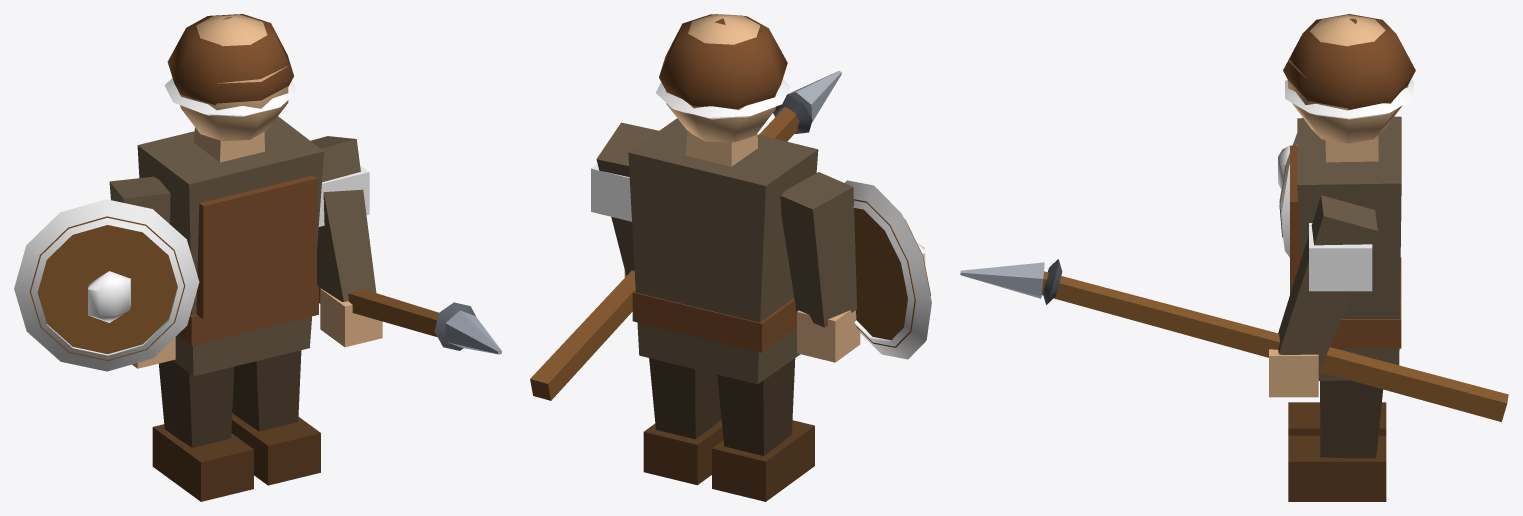
File: Militia_FirstAge.glb
The picture shows the model from 3 angles, left to right: view 1: azimuth 30°, elevation 25°; view 2: azimuth 150°, elevation 25°; view 3: azimuth 270°, elevation 25°; orthographic projection.
Visible parts, largest first — view 1: Leather, Cloth, Left_Wood, Left_Team, Right_Cloth, Skin, LegA_Dark, LegA_Trouser, LegB_Trouser, LegB_Dark, Right_Wood, Right_Skin (+5 smaller); view 2: Cloth, Leather, Left_Cloth, Left_Wood, LegA_Trouser, Skin, Left_Team, Right_Wood, LegA_Dark, LegB_Trouser, LegB_Dark, Left_Skin (+5 smaller); view 3: Cloth, Right_Wood, Leather, Right_Cloth, LegB_Dark, Skin, LegB_Trouser, Right_Team, Right_Skin, Right_Steel, Team, LegA_Dark (+1 smaller).
Boxes of the visible parts, bbox=[...] form: Leather: bbox=[167, 14, 318, 345]; Cloth: bbox=[137, 116, 324, 376]; Left_Wood: bbox=[29, 216, 185, 360]; Left_Team: bbox=[14, 199, 199, 371]; Right_Cloth: bbox=[310, 136, 376, 301]; Skin: bbox=[180, 14, 288, 162]; LegA_Dark: bbox=[152, 424, 253, 501]; LegA_Trouser: bbox=[159, 360, 234, 447]; LegB_Trouser: bbox=[232, 350, 301, 431]; LegB_Dark: bbox=[231, 413, 320, 485]; Right_Wood: bbox=[317, 284, 438, 337]; Right_Skin: bbox=[320, 288, 382, 347]; Cloth: bbox=[628, 118, 818, 384]; Leather: bbox=[632, 14, 796, 352]; Left_Cloth: bbox=[780, 172, 856, 327]; Left_Wood: bbox=[854, 199, 930, 347]; LegA_Trouser: bbox=[717, 358, 795, 455]; Skin: bbox=[666, 14, 776, 166]; Left_Team: bbox=[845, 180, 931, 359]; Right_Wood: bbox=[530, 107, 799, 400]; LegA_Dark: bbox=[712, 420, 814, 501]; LegB_Trouser: bbox=[649, 358, 721, 439]; LegB_Dark: bbox=[643, 420, 723, 485]; Left_Skin: bbox=[797, 310, 860, 362]; Cloth: bbox=[1297, 116, 1401, 380]; Right_Wood: bbox=[1042, 271, 1508, 421]; Leather: bbox=[1283, 14, 1415, 348]; Right_Cloth: bbox=[1278, 195, 1377, 365]; LegB_Dark: bbox=[1288, 435, 1386, 501]; Skin: bbox=[1288, 14, 1408, 162]; LegB_Trouser: bbox=[1320, 380, 1383, 458]; Right_Team: bbox=[1309, 223, 1372, 291]; Right_Skin: bbox=[1269, 349, 1318, 397]; Right_Steel: bbox=[960, 262, 1044, 298]; Team: bbox=[1285, 79, 1413, 119]; LegA_Dark: bbox=[1288, 402, 1386, 435].
Bounding box in the file's own units: 0.6095 × 0.7908 × 0.8658.
